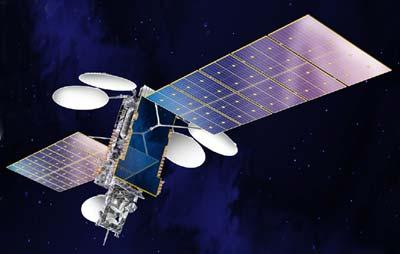antenna: (187, 119, 238, 157), (163, 129, 206, 169), (51, 85, 109, 112), (78, 71, 137, 92), (81, 193, 108, 225), (101, 228, 111, 247)
body: (93, 84, 177, 235)
solar: (144, 12, 393, 136), (5, 131, 116, 193)
